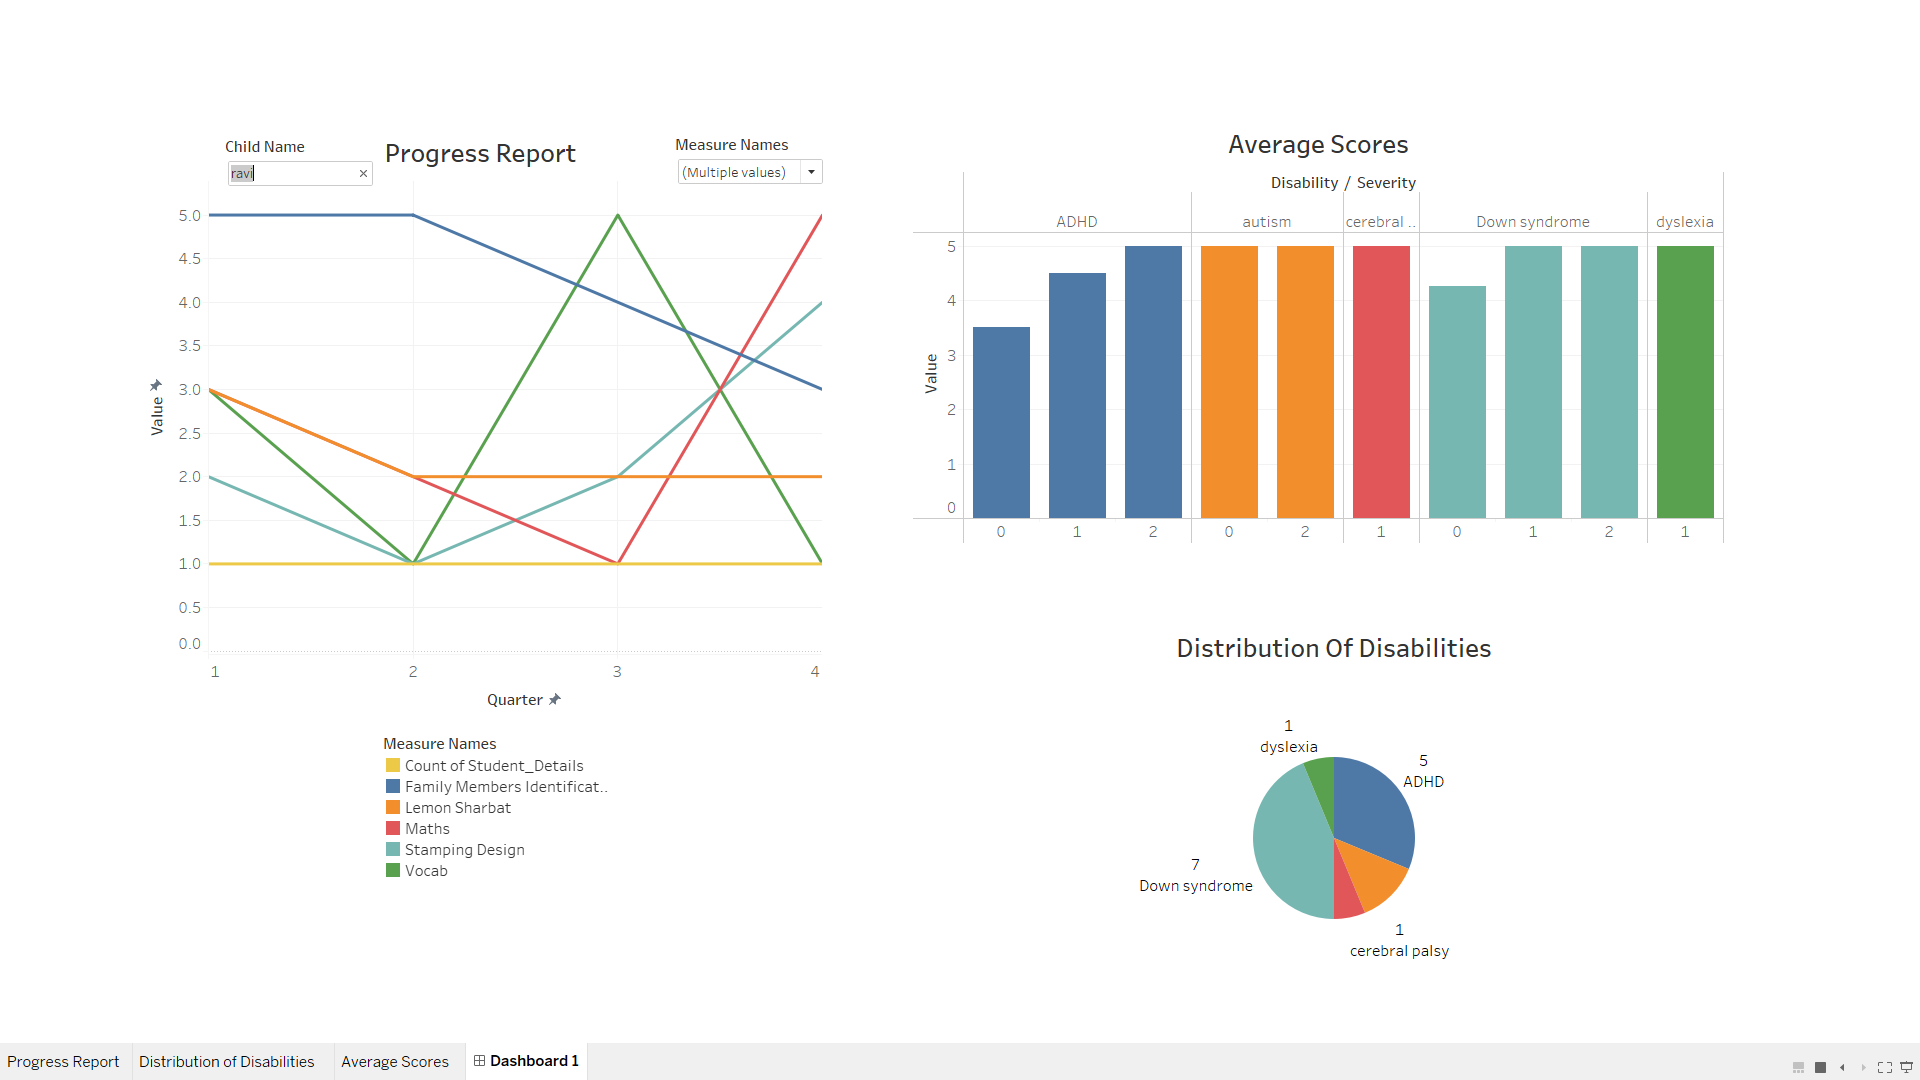

The dashboard page shown, as its layout file describes it:
{"tool":"tableau","page":{"name":"Dashboard 1","canvas":[1800,800],"ordinal":0},"visuals":[{"type":"worksheet","title":"Average Scores per disability per severity","mark":"Automatic","cols":["disability","severity"],"box":[847.1,1,912.4,422]},{"type":"filter","title":"Progress Report","param":"[federated.14wharg1j8l4fw1e4y5jk0awhake].[:Measure Names]","box":[579.2,13,169.4,53]},{"type":"filter","title":"Progress Report","param":"[federated.14wharg1j8l4fw1e4y5jk0awhake].[none:child_name:nk]","box":[73.1,15,169.4,53]},{"type":"legend","title":"Progress Report","param":"[federated.14wharg1j8l4fw1e4y5jk0awhake].[:Measure Names]","box":[250.9,612,258.8,148]}]}

Visuals, with their boxes on the page's 1800x800 design canvas (x1, y1, x2, y2). These are canvas units, not pixel positions in the 1920x1080 screenshot, which may show the page scaled, cropped or inside an application window:
"Average Scores per disability per severity" worksheet: region(847, 1, 1760, 423)
"Progress Report" filter: region(579, 13, 749, 66)
"Progress Report" filter: region(73, 15, 242, 68)
"Progress Report" legend: region(251, 612, 510, 760)
